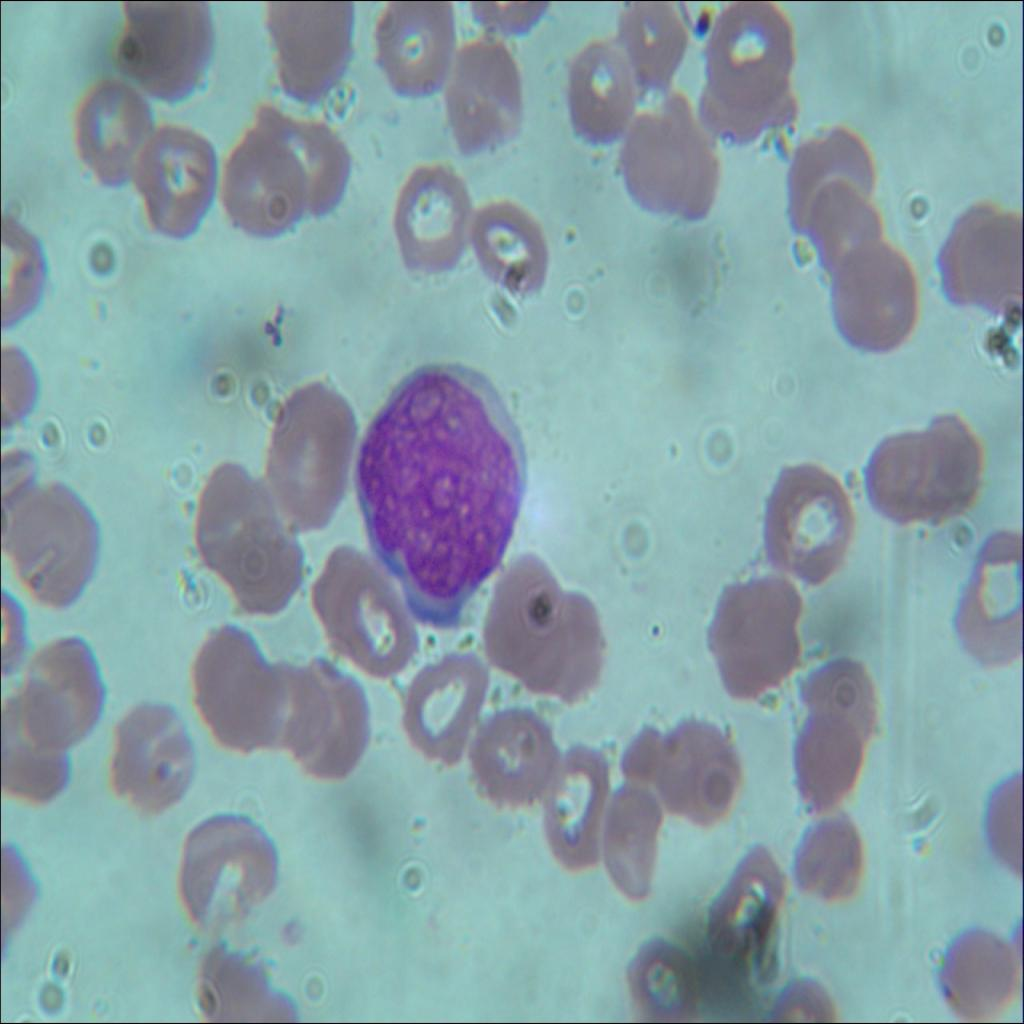Eritrosit: (264, 372, 358, 536), (613, 90, 716, 234), (309, 547, 418, 668), (704, 564, 798, 694), (783, 118, 873, 248), (935, 191, 1023, 322), (130, 121, 222, 244), (831, 241, 921, 364), (13, 479, 101, 602), (291, 649, 371, 784), (191, 614, 274, 744), (402, 637, 486, 764), (538, 735, 616, 871), (251, 106, 351, 212), (704, 0, 789, 121), (521, 591, 608, 704), (18, 637, 106, 748), (909, 407, 990, 527), (386, 158, 471, 272), (470, 699, 564, 802), (182, 824, 278, 924), (66, 74, 150, 186), (0, 695, 79, 814), (216, 131, 306, 235), (112, 698, 194, 812), (442, 38, 526, 148), (262, 0, 362, 92), (769, 468, 853, 577), (808, 180, 891, 290), (221, 514, 310, 616), (658, 707, 738, 820), (558, 38, 638, 150), (128, 1, 223, 95), (941, 915, 1023, 1023), (244, 644, 326, 752), (598, 767, 664, 900), (484, 550, 558, 664), (786, 707, 864, 809), (706, 842, 778, 950), (798, 650, 880, 744), (376, 0, 459, 91), (801, 812, 869, 918), (194, 462, 260, 567), (620, 719, 694, 811), (470, 204, 548, 291), (610, 0, 684, 89), (631, 930, 693, 1023), (871, 424, 924, 518)
Limfoblast: (348, 358, 526, 600)
Platelet: (649, 614, 663, 634)
